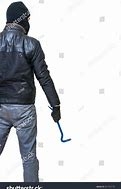crowbar: (46, 103, 72, 144)
